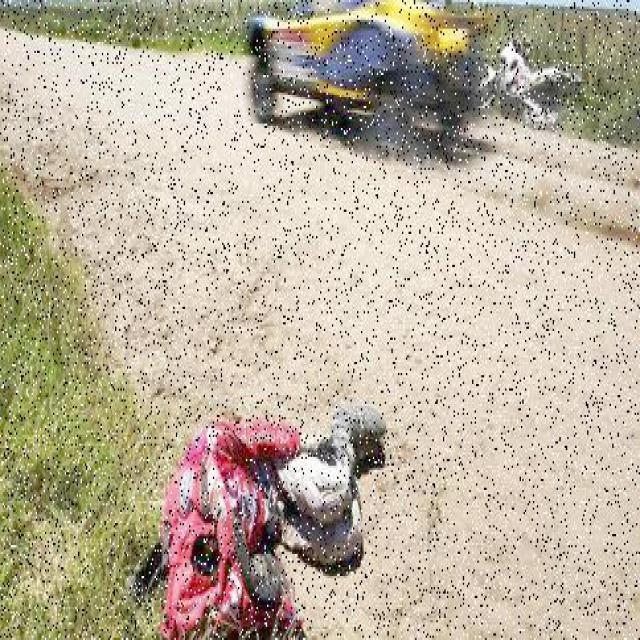fall: (163, 390, 380, 638)
